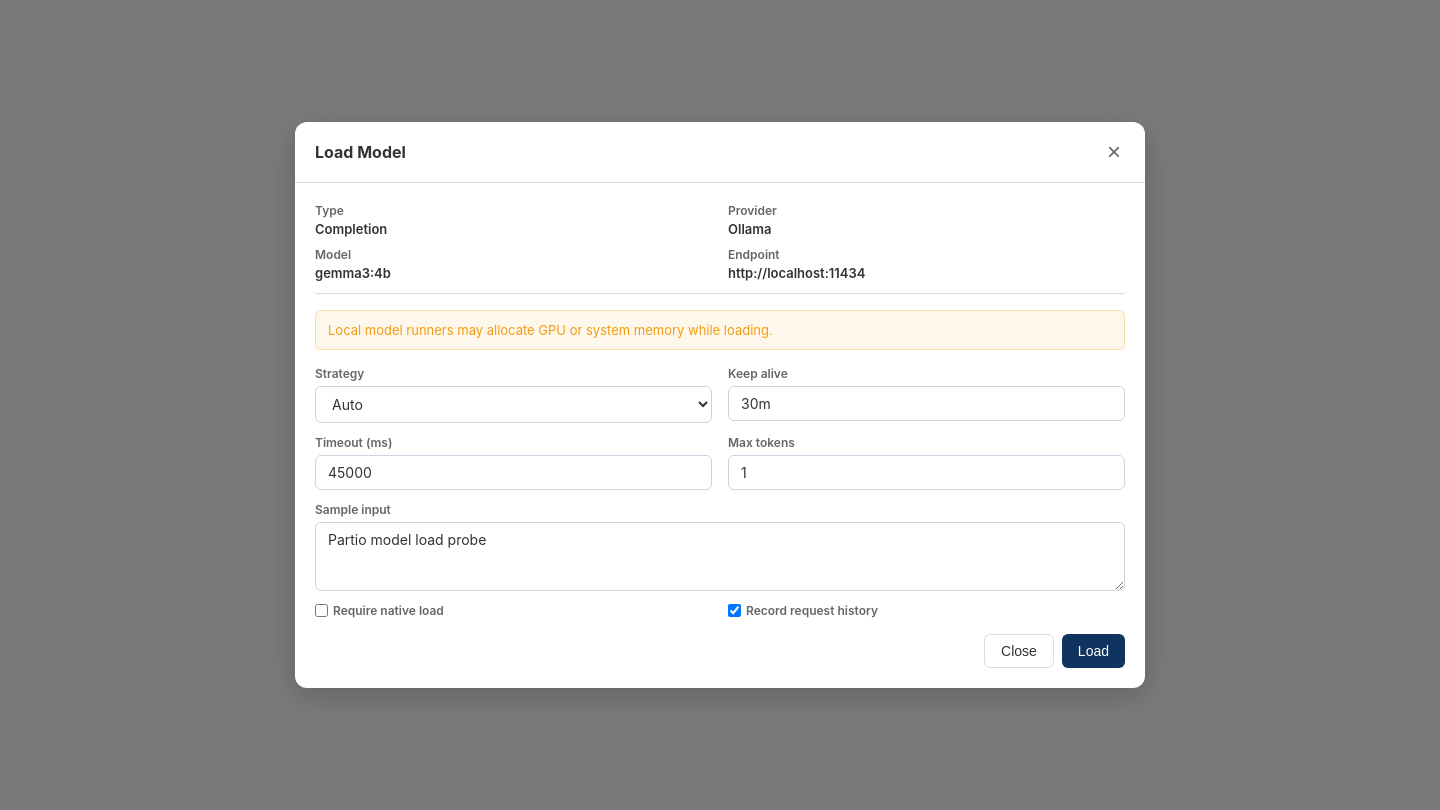
Test case: LoadModelModal › submits the configured load request and renders a success result
Select "Warm request" in the dropdown labelled "Strategy": {"x": 514, "y": 405} [315,386,712,423]
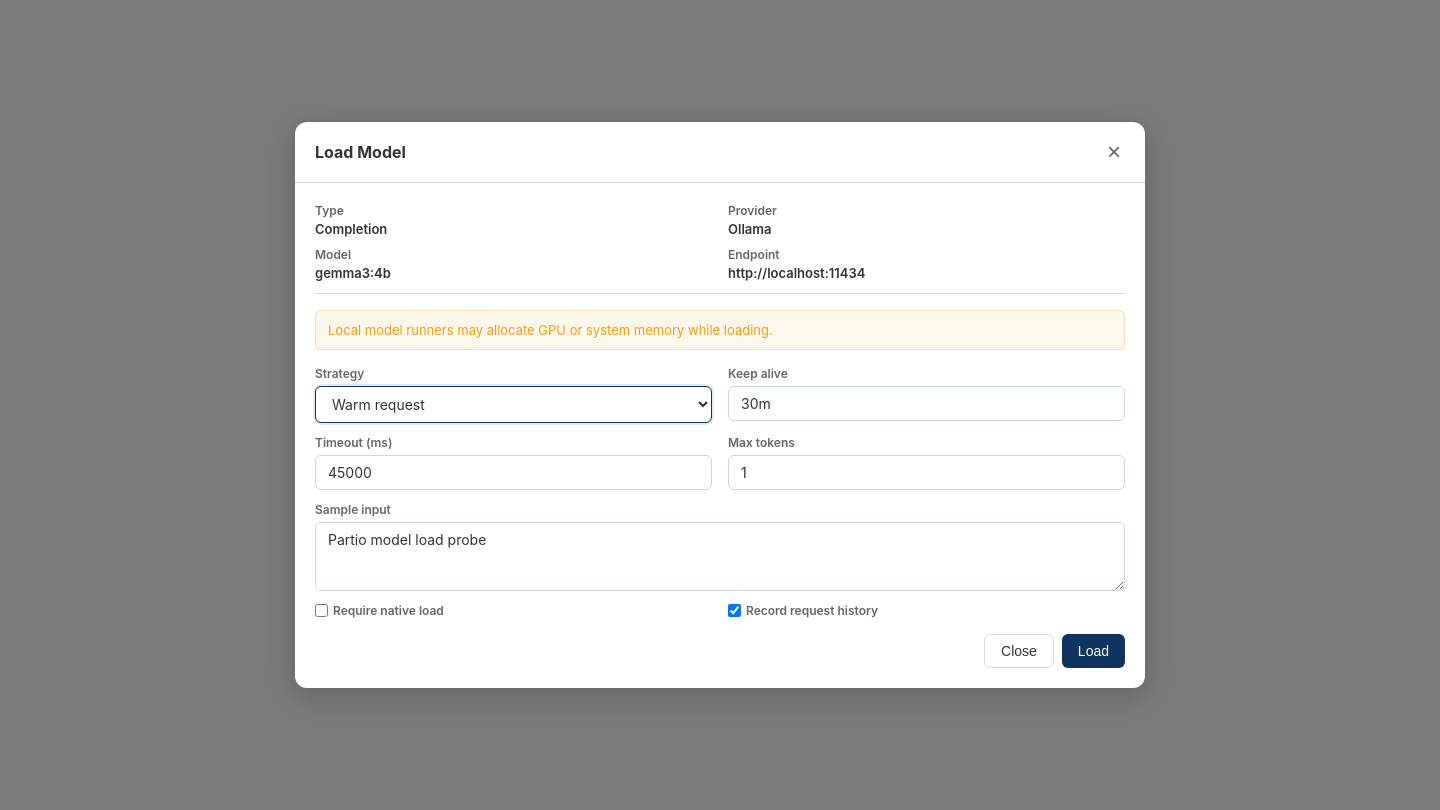
Replace the text in the field labelled "Keep alive" with "45m": {"x": 926, "y": 404} [728,386,1125,421]
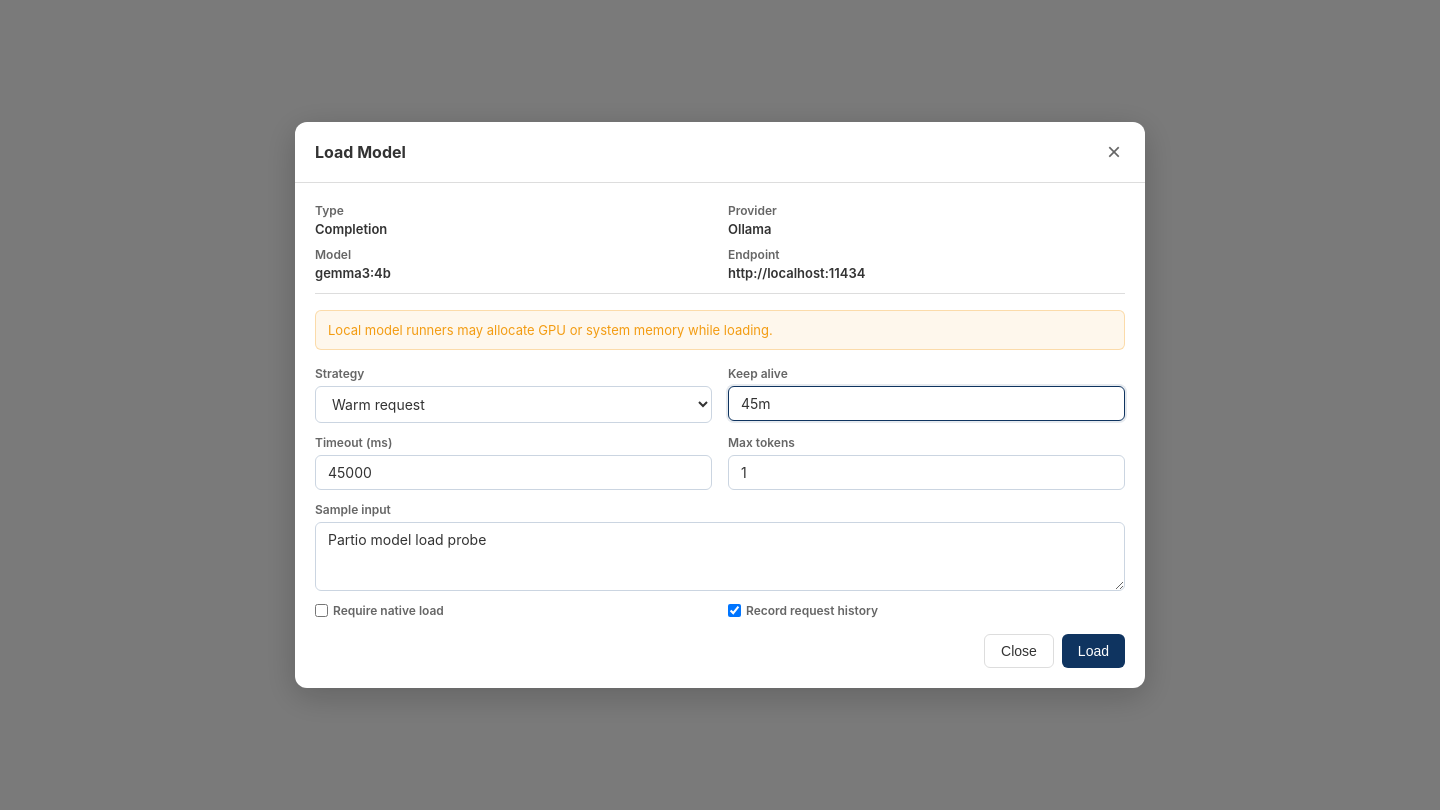
Replace the text in the text box labelled "Sample input" with "warm this model": {"x": 720, "y": 557} [315,522,1125,591]
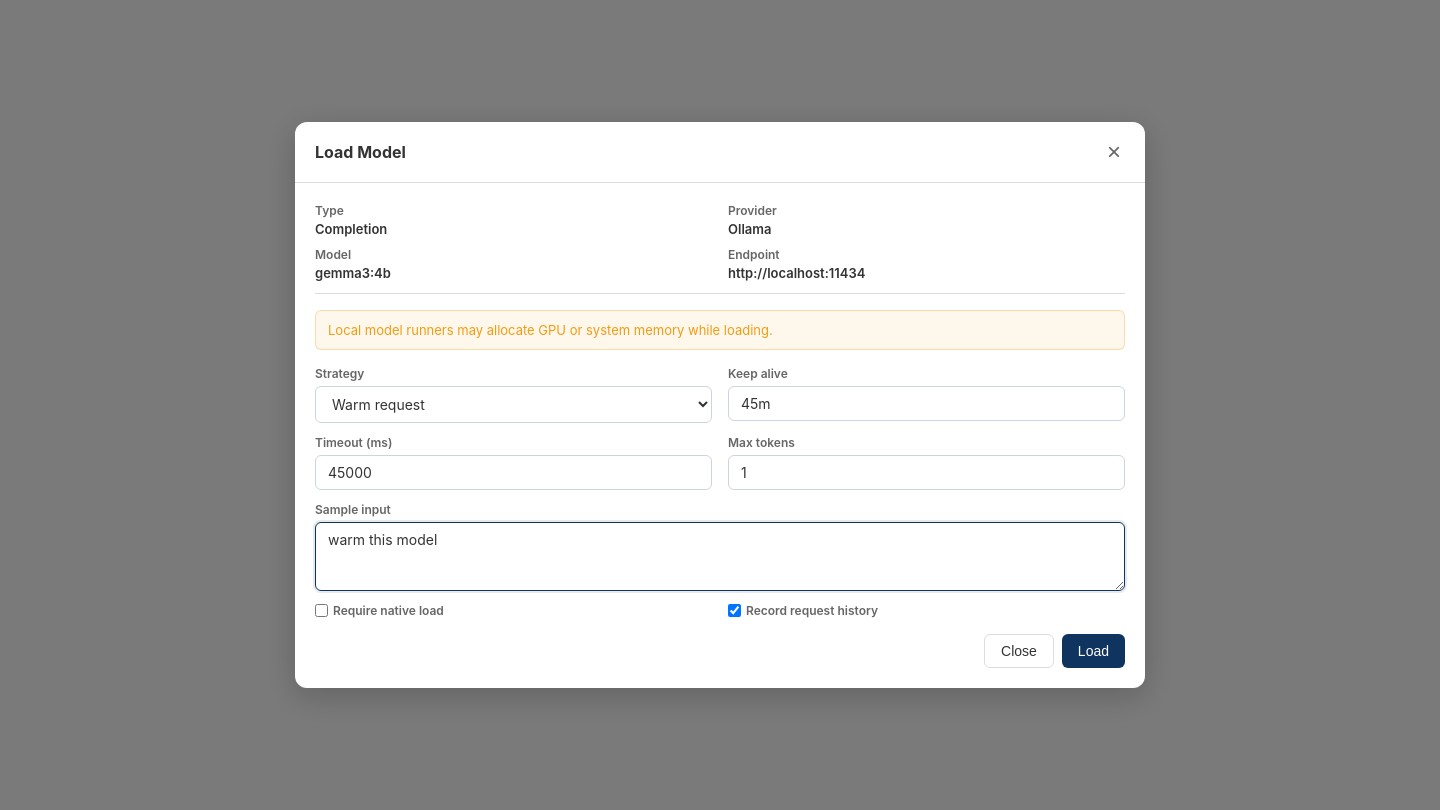
Click the checkbox labelled "Require native load": {"x": 322, "y": 611} [315,604,328,617]
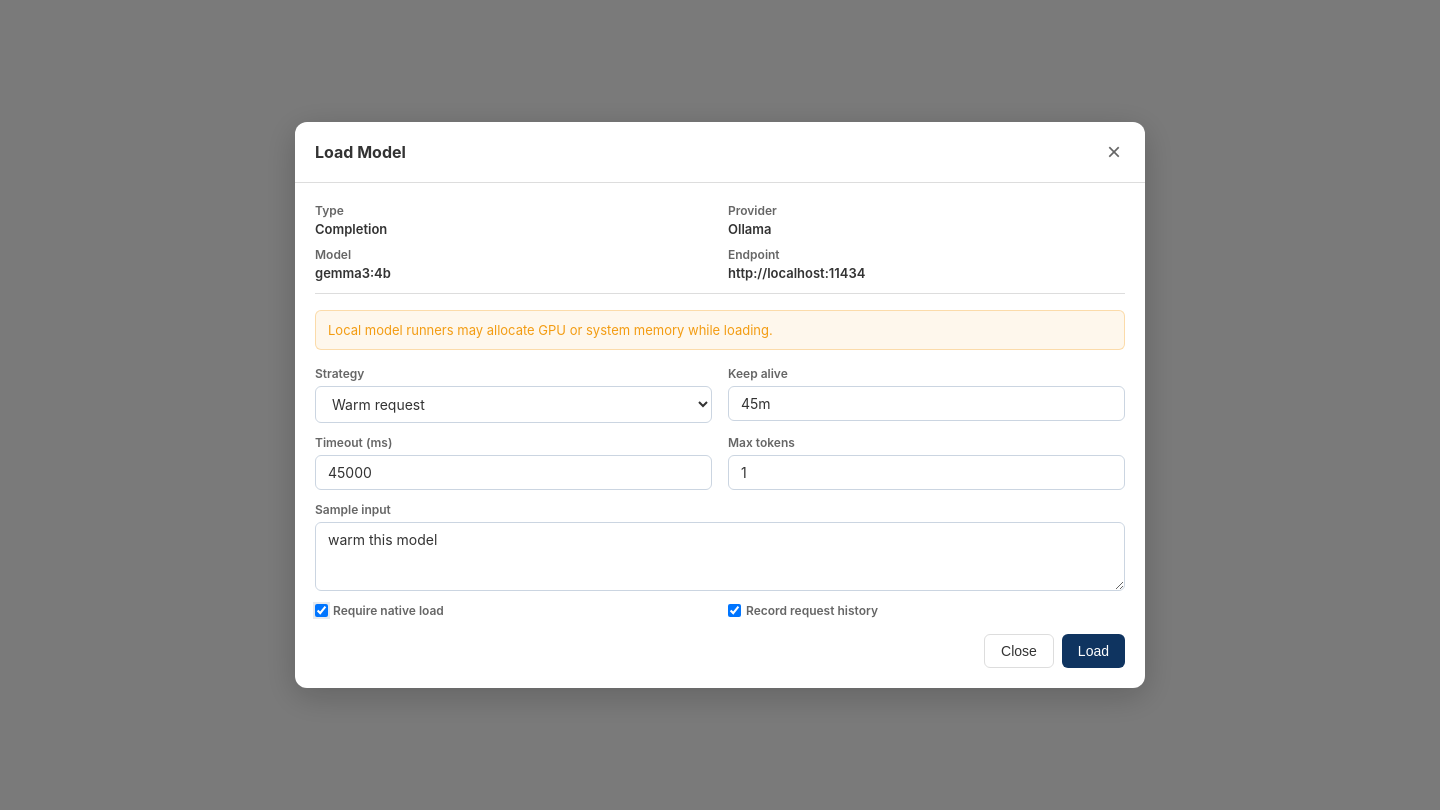
Click the button "Load": {"x": 1093, "y": 651} [1062,634,1125,668]
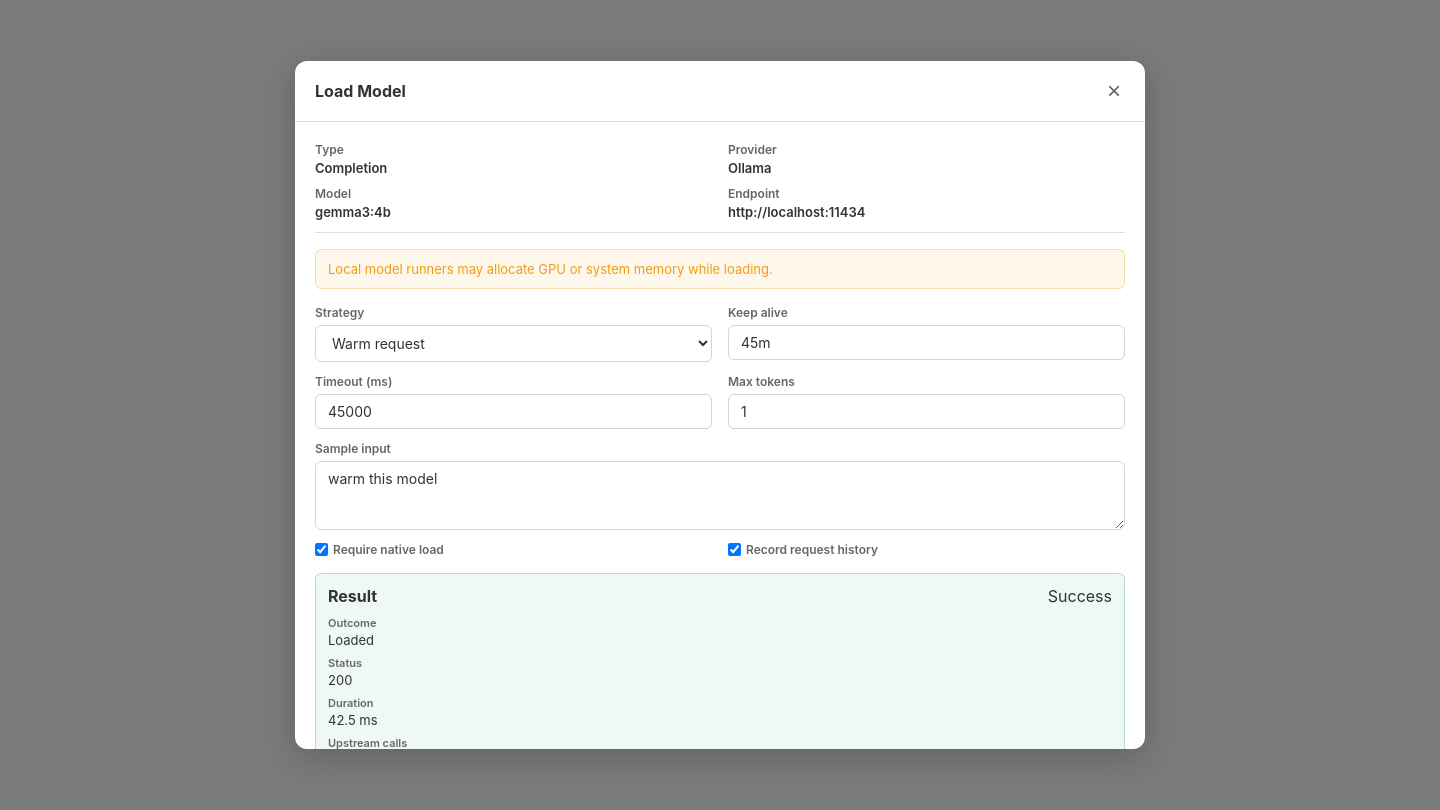
Result: the text "Success" is shown at [1048,586,1112,606]
Result: the text "Loaded" is shown at [328,632,374,648]
